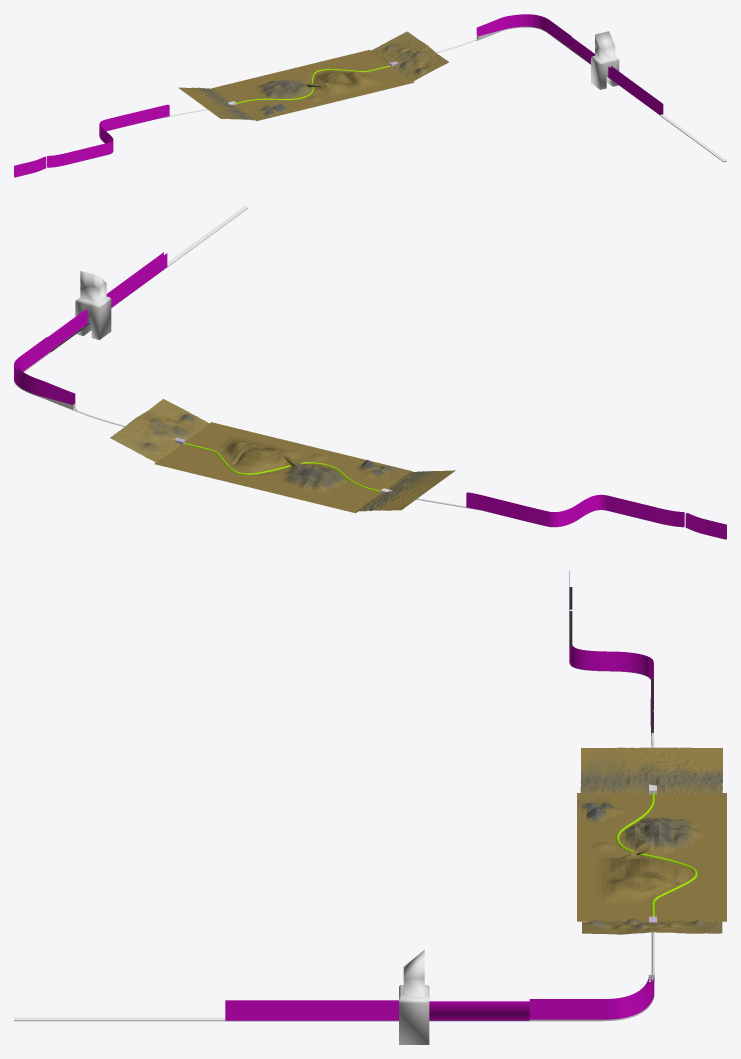
The model's file is final-con modifiers aplicados+underwater.glb.
3 renders of one model, top to bottom at view 1: azimuth 30°, elevation 25°; view 2: azimuth 150°, elevation 25°; view 3: azimuth 270°, elevation 25°, orthographic. The views are drawn at different scales.
Visible parts, largest first — view 1: underwaterfloor, Tunel subaquatica, Grid, Main Tower, Grid.001, Carretera, carretera.002; view 2: underwaterfloor, Tunel subaquatica, Grid, Main Tower, Grid.001, Carretera, carretera.002, Murete; view 3: underwaterfloor, Grid.001, Tunel subaquatica, Carretera, Main Tower, Grid, roof.
Boxes of the visible parts, box(x1,y1,x2,y2) form: underwaterfloor: box(212, 49, 414, 121); Tunel subaquatica: box(47, 14, 571, 167); Grid: box(371, 31, 448, 81); Main Tower: box(591, 31, 619, 89); Grid.001: box(178, 87, 255, 120); Carretera: box(569, 37, 663, 115); carretera.002: box(14, 156, 46, 177); underwaterfloor: box(154, 422, 412, 513); Tunel subaquatica: box(14, 337, 684, 527); Grid: box(110, 399, 208, 462); Main Tower: box(75, 271, 111, 339); Grid.001: box(356, 470, 455, 511); Carretera: box(47, 252, 167, 352); carretera.002: box(685, 513, 726, 539); Murete: box(49, 310, 88, 350); underwaterfloor: box(577, 793, 726, 921); Grid.001: box(580, 747, 722, 794); Tunel subaquatica: box(529, 594, 697, 1021); Carretera: box(225, 1000, 529, 1021); Main Tower: box(399, 950, 429, 1044); Grid: box(582, 918, 722, 934); roof: box(14, 1017, 225, 1020).
Size of the model in its own units: 5240 by 449 by 3512.
16 materials, 3 textured.
